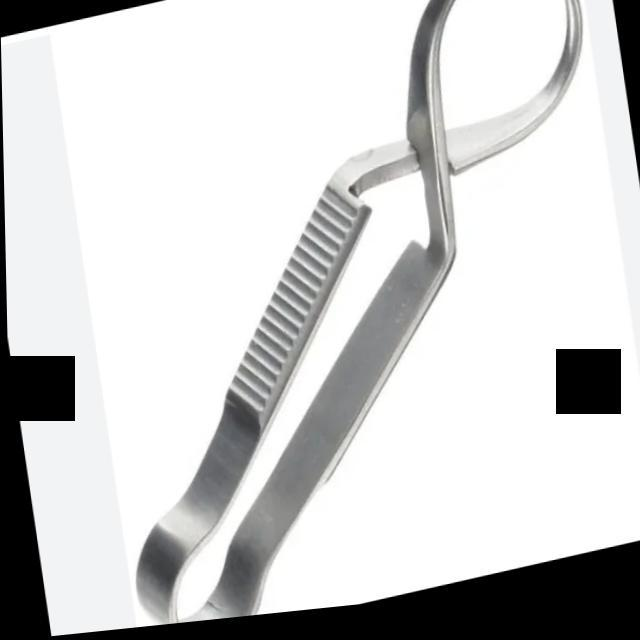Doyen Cross Action Towel Clamp: (45, 0, 640, 636)
